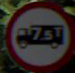Heavy Vehicles: (7, 5, 70, 63)
